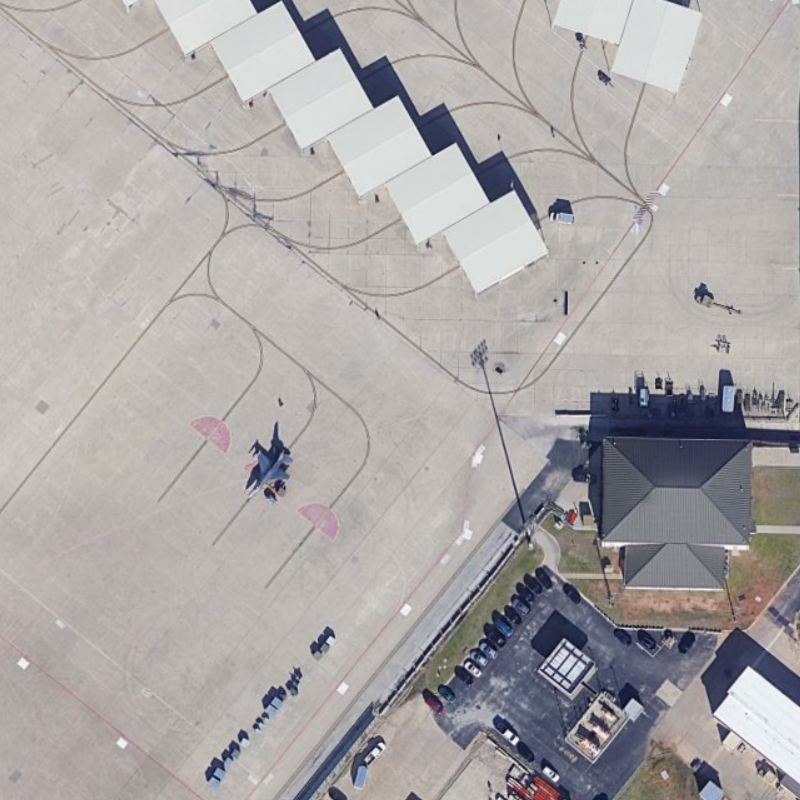A5: (237, 439, 300, 501)
